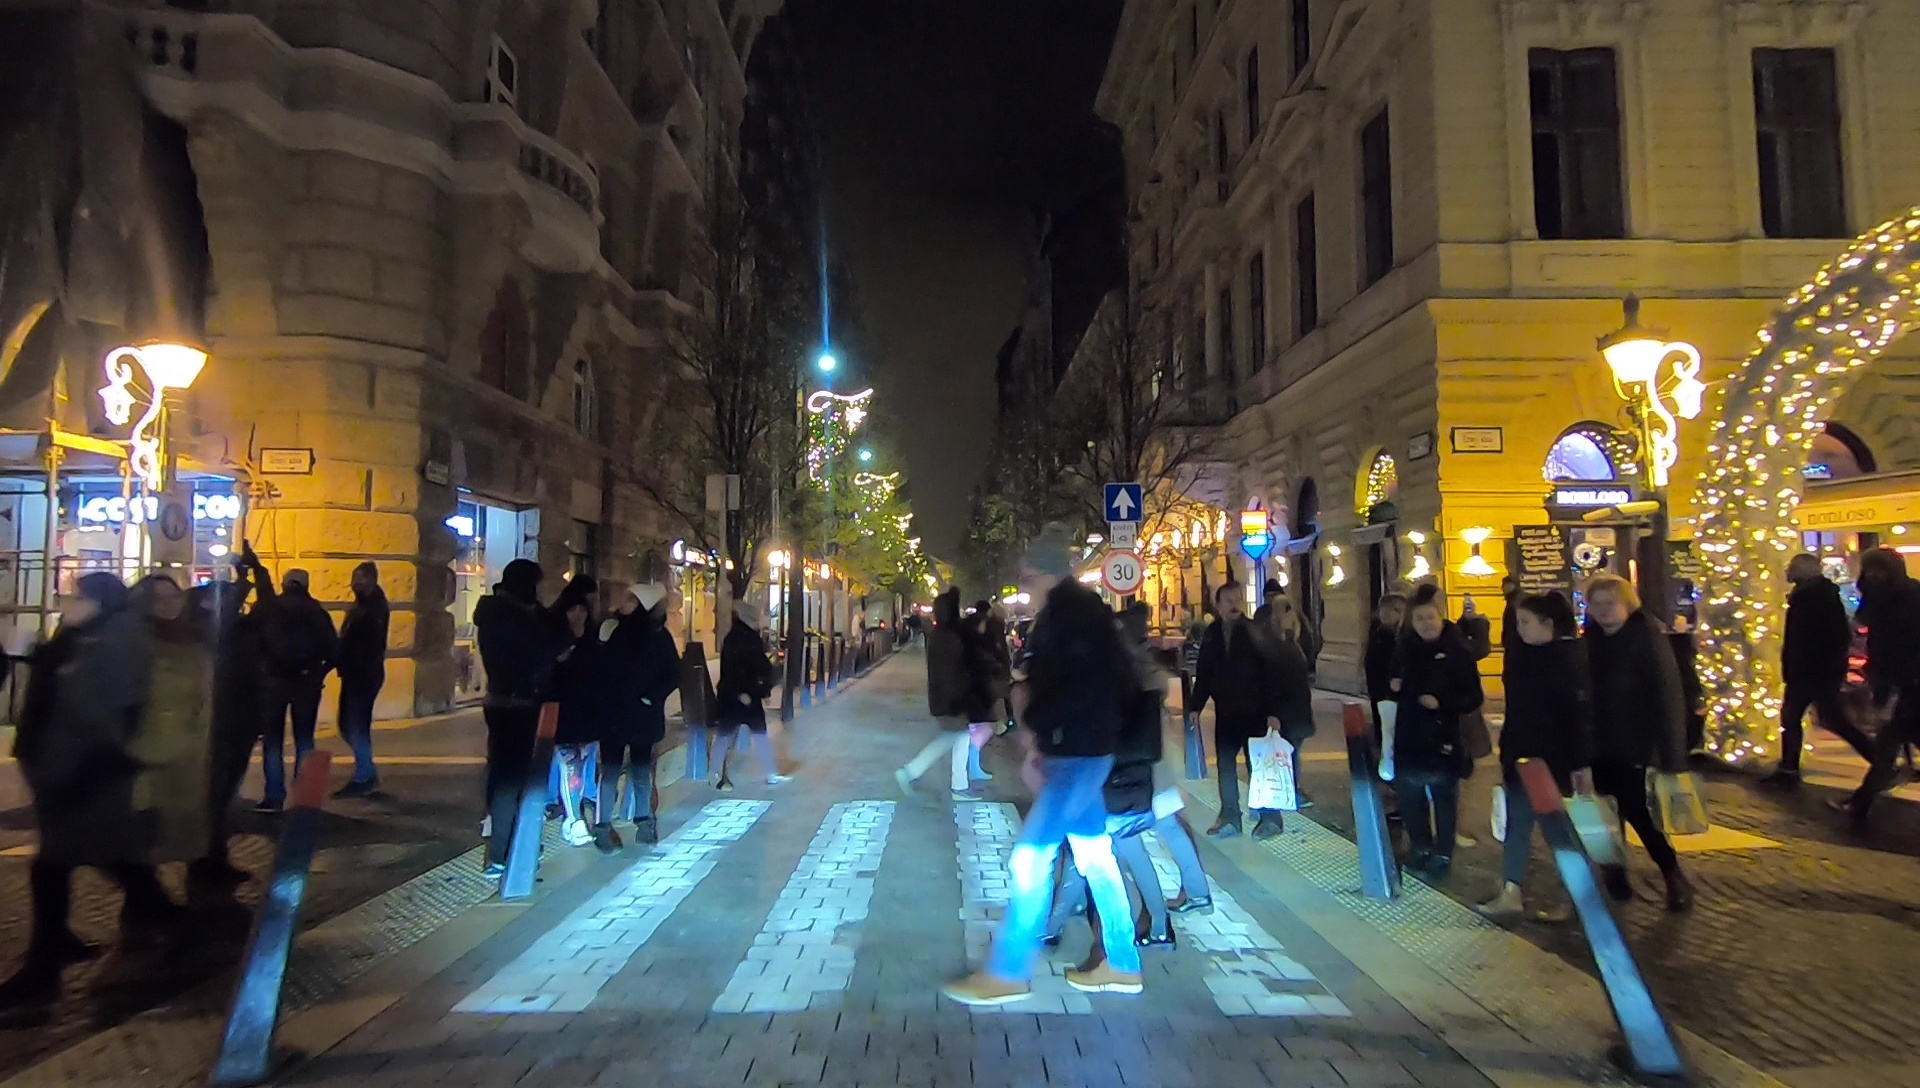person: (958, 536, 1141, 1010), (23, 574, 143, 978), (119, 552, 215, 930), (1582, 589, 1691, 915), (1078, 615, 1176, 969), (1486, 597, 1593, 923), (465, 543, 556, 889), (1778, 552, 1871, 800), (1395, 589, 1467, 889), (1201, 582, 1284, 836), (1365, 587, 1439, 863), (1854, 537, 1920, 796), (897, 586, 973, 806), (715, 595, 789, 800), (612, 578, 664, 850), (551, 580, 602, 847), (1258, 582, 1312, 804), (267, 569, 317, 806), (338, 565, 382, 795), (964, 611, 1004, 784)
